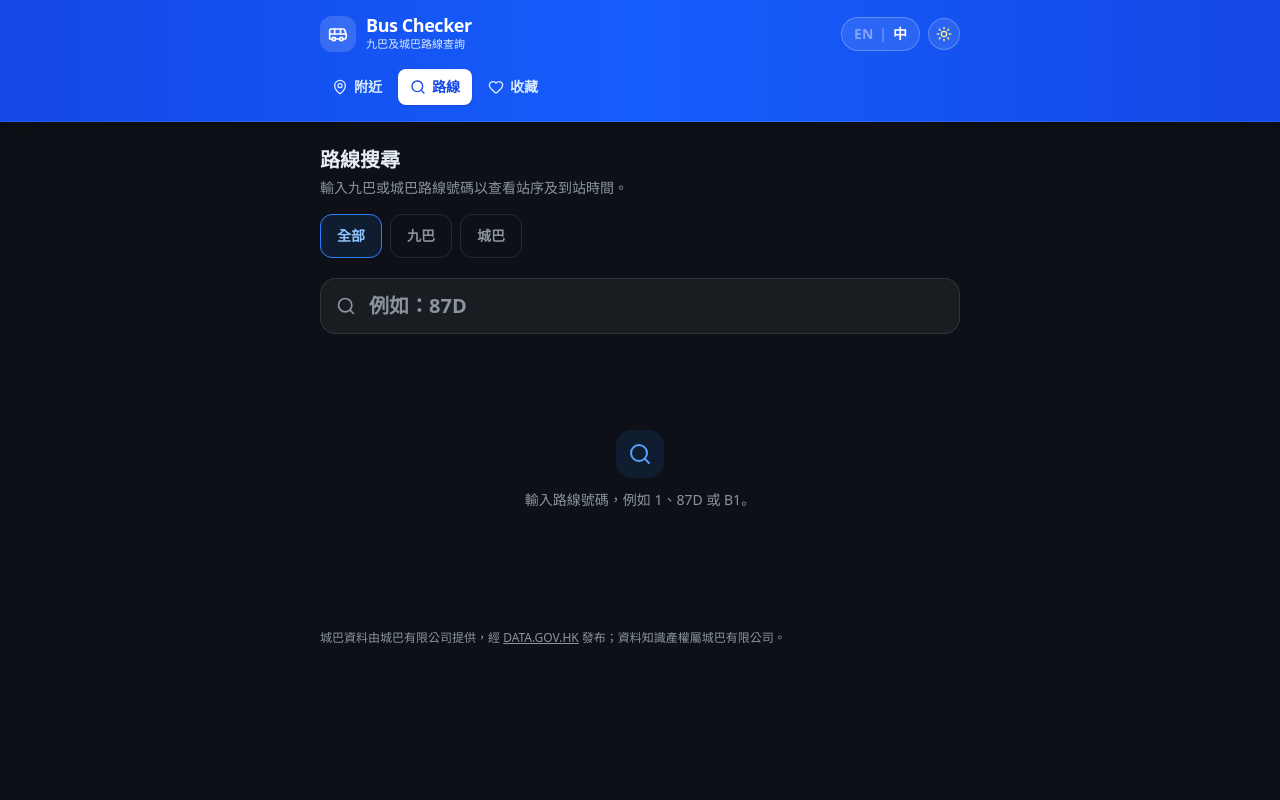
it: RouteSearchPage › distinguishes same-number operators and preserves the Citybus filter in URLs
Type "1" into the field named "搜尋路線號碼" at (640, 306), box x1=320 y1=278 x2=960 y2=334
Wait 180 ms
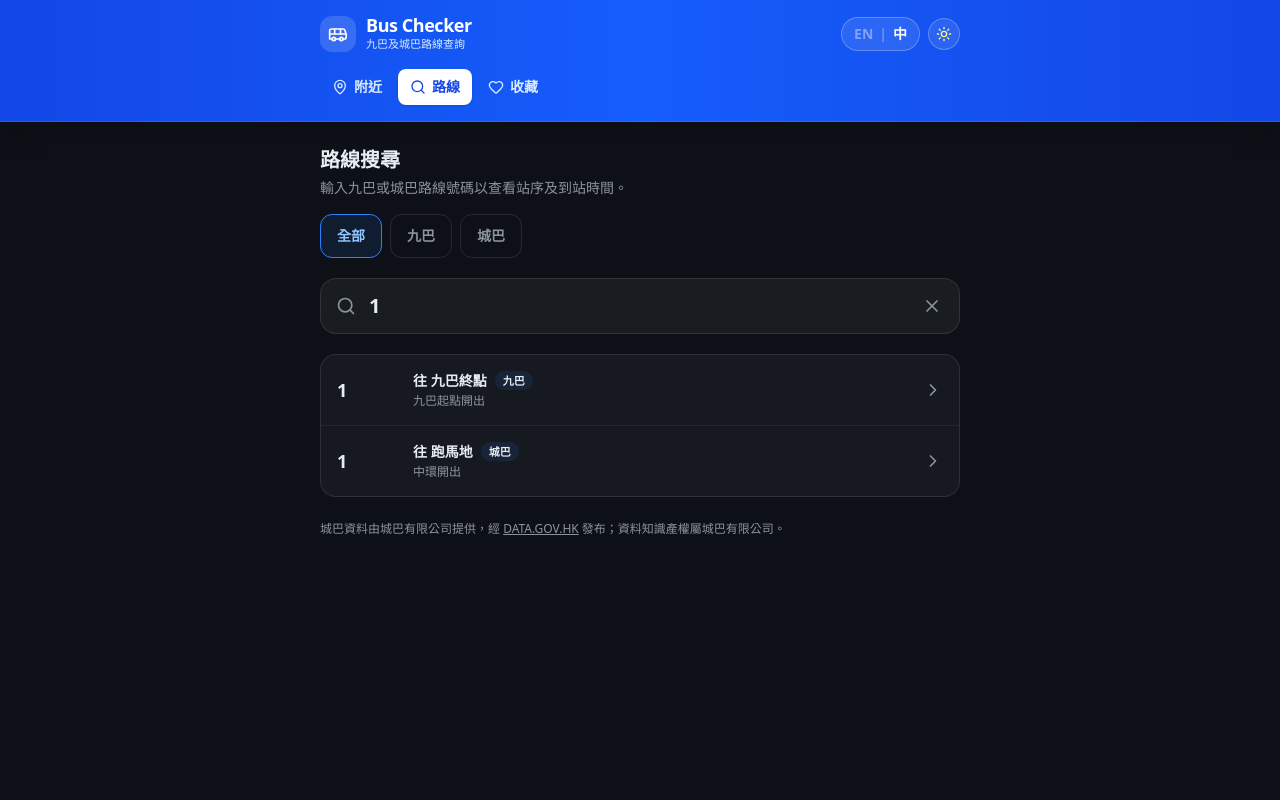
Check: the text "往 跑馬地" is shown, box x1=413 y1=442 x2=473 y2=462
Check: the text "往 九巴終點" is shown, box x1=413 y1=370 x2=487 y2=390
Click the button "城巴" at (491, 236), box x1=460 y1=214 x2=522 y2=258
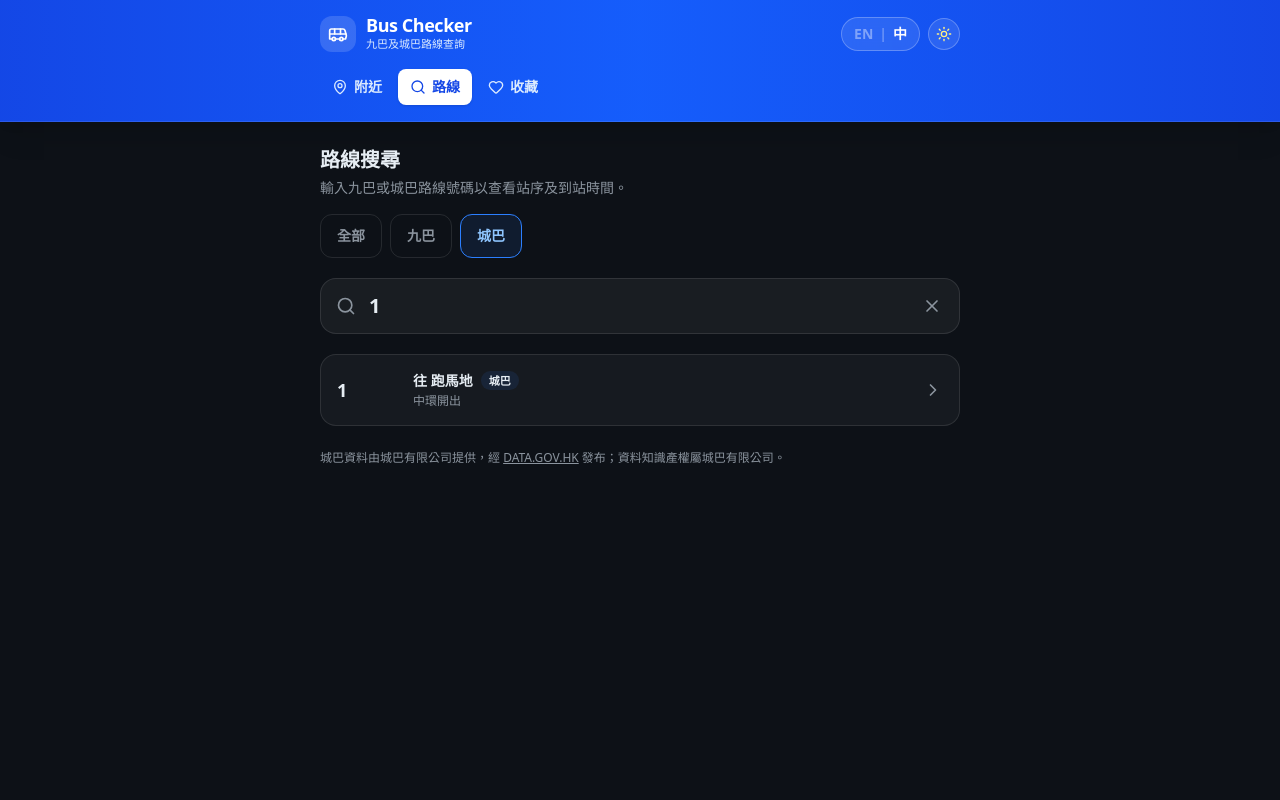
Check: the link "往 九巴終點" is gone
